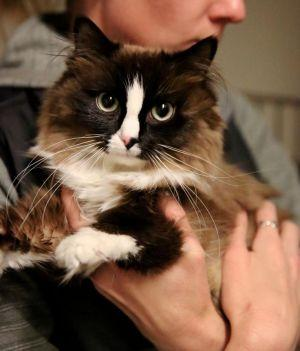ragdoll: (47, 13, 223, 196)
